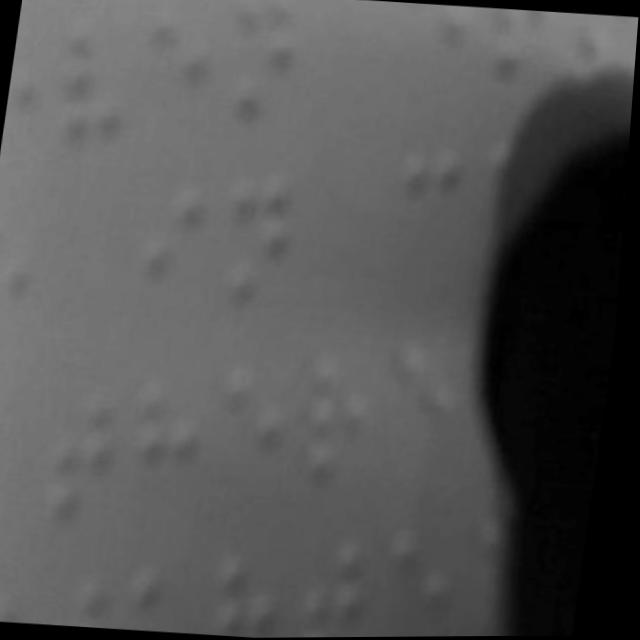braiile: (383, 138, 479, 306), (217, 168, 310, 335), (128, 371, 225, 527), (132, 179, 226, 337), (303, 347, 398, 499), (216, 357, 310, 510), (47, 383, 138, 533), (132, 6, 219, 155), (218, 0, 308, 137), (52, 27, 145, 154), (390, 521, 474, 638), (219, 531, 308, 639), (310, 539, 394, 638)
